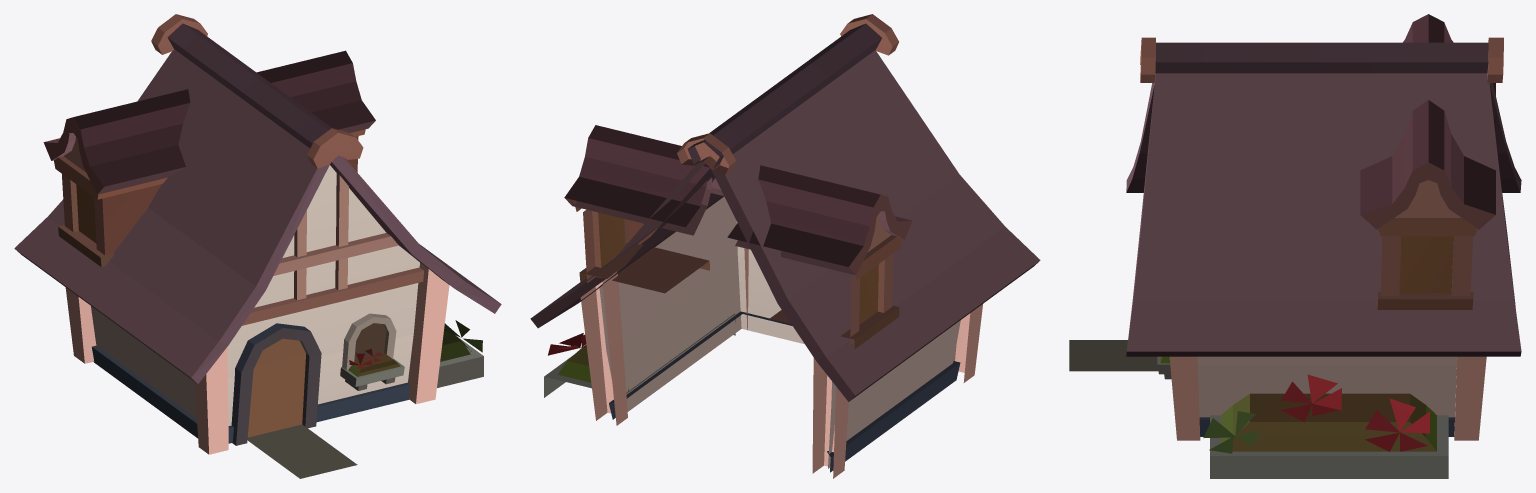
Rendered from building30.fbx.
The picture shows the model from 3 angles, left to right: view 1: azimuth 30°, elevation 25°; view 2: azimuth 150°, elevation 25°; view 3: azimuth 270°, elevation 25°; orthographic projection. The views are drawn at different scales.
Parts seen in each view (by area): view 1: building30; view 2: building30; view 3: building30.
Part boxes in pixels (left/top/right/bottom): building30: left=14, top=14, right=501, bottom=478; building30: left=530, top=14, right=1040, bottom=478; building30: left=1069, top=14, right=1521, bottom=478.
Bounding box in the file's own units: 1.86 × 1.59 × 1.89.
Materials: 1 (1 with a texture image).
